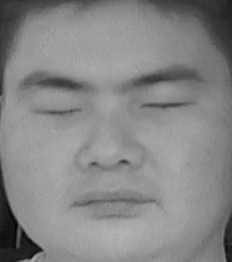blink: (31, 91, 85, 124), (140, 89, 192, 122)
mouth: (71, 179, 154, 227)
